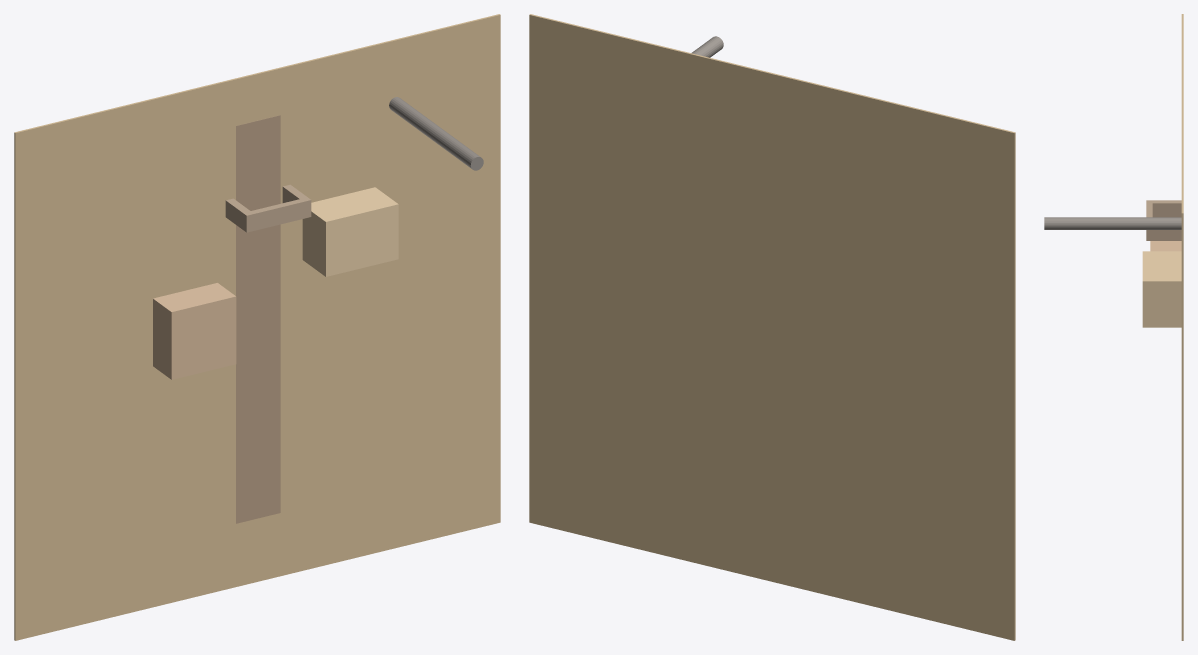
Rendered from desert.glb.
3 views of the same model, side by side, from view 1: azimuth 30°, elevation 25°; view 2: azimuth 150°, elevation 25°; view 3: azimuth 270°, elevation 25° (orthographic). The views are drawn at different scales.
Parts seen in each view (by area): view 1: XPLAY_GROUND, XPLAY_ROAD, XPLAY_ADOBE_B, XPLAY_ADOBE_A, XPLAY_RADIO_TOWER, XPLAY_STONE_ARCH_TOP, XPLAY_STONE_ARCH_L; view 2: XPLAY_GROUND; view 3: XPLAY_ADOBE_B, XPLAY_GROUND, XPLAY_RADIO_TOWER, XPLAY_STONE_ARCH_L, XPLAY_STONE_ARCH_R, XPLAY_ADOBE_A.
Boxes of the visible parts, x1=… form: XPLAY_GROUND: x1=14, y1=14, x2=500, y2=640; XPLAY_ROAD: x1=236, y1=115, x2=280, y2=523; XPLAY_ADOBE_B: x1=302, y1=187, x2=398, y2=276; XPLAY_ADOBE_A: x1=153, y1=283, x2=236, y2=379; XPLAY_RADIO_TOWER: x1=389, y1=97, x2=483, y2=170; XPLAY_STONE_ARCH_TOP: x1=243, y1=197, x2=311, y2=231; XPLAY_STONE_ARCH_L: x1=225, y1=198, x2=254, y2=232; XPLAY_GROUND: x1=529, y1=14, x2=1015, y2=640; XPLAY_ADOBE_B: x1=1142, y1=251, x2=1181, y2=327; XPLAY_GROUND: x1=1181, y1=14, x2=1183, y2=640; XPLAY_RADIO_TOWER: x1=1044, y1=217, x2=1181, y2=229; XPLAY_STONE_ARCH_L: x1=1146, y1=200, x2=1181, y2=217; XPLAY_STONE_ARCH_R: x1=1146, y1=230, x2=1181, y2=240; XPLAY_ADOBE_A: x1=1150, y1=241, x2=1181, y2=251.
Size of the model in its own units: 120 by 120 by 35.5.
